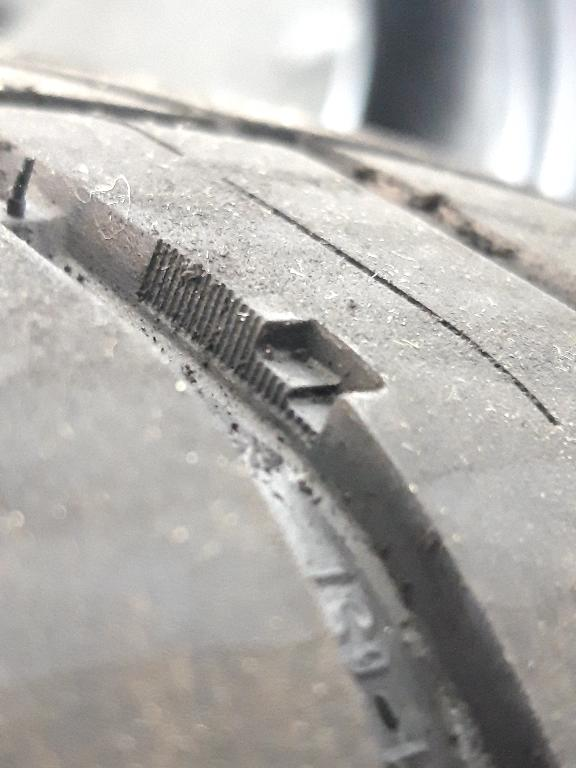temoin:50: (214, 288, 402, 459)
